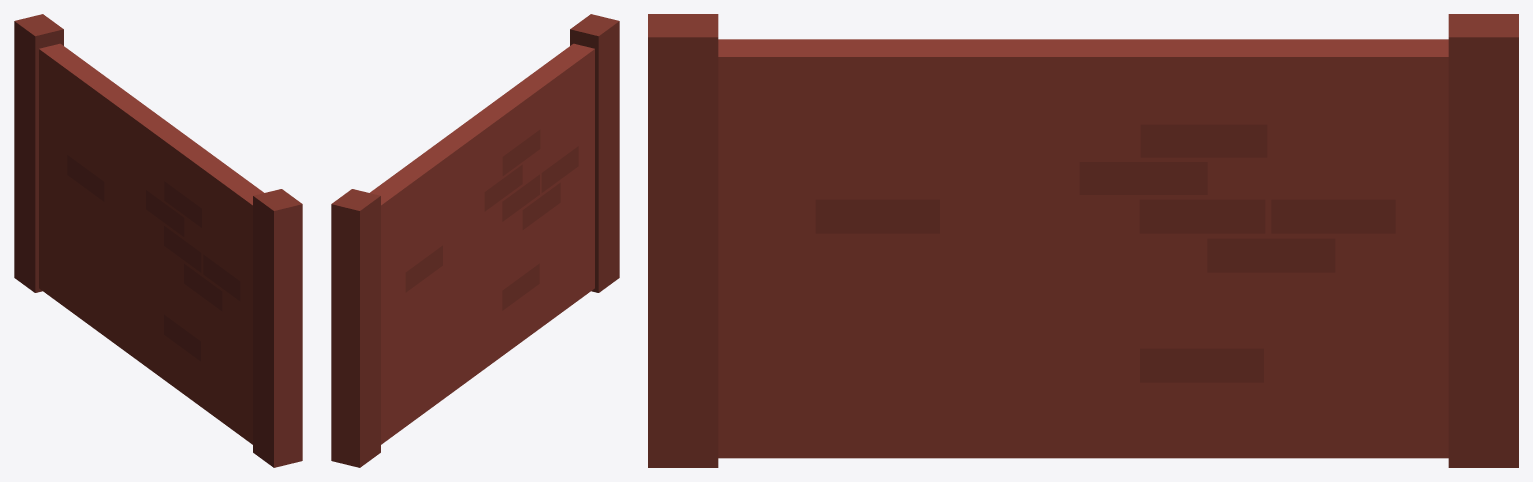
Rendered from SA_Prop_Fence_Brick_01.glb.
3 views of the same model, side by side, from view 1: azimuth 30°, elevation 25°; view 2: azimuth 150°, elevation 25°; view 3: azimuth 270°, elevation 25° (orthographic). The views are drawn at different scales.
Visible parts, largest first — view 1: SA_Prop_Fence_Brick_01; view 2: SA_Prop_Fence_Brick_01; view 3: SA_Prop_Fence_Brick_01.
Part boxes in pixels (box(x1,y1,x2,y2)): SA_Prop_Fence_Brick_01: box(14, 14, 302, 467); SA_Prop_Fence_Brick_01: box(331, 14, 619, 467); SA_Prop_Fence_Brick_01: box(648, 14, 1518, 467).
Size of the model in its own units: 0.1471 by 1.26 by 2.31.
1 material, 1 textured.
